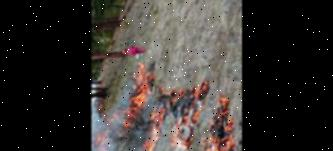fire: (91, 57, 166, 151), (167, 80, 242, 151)
